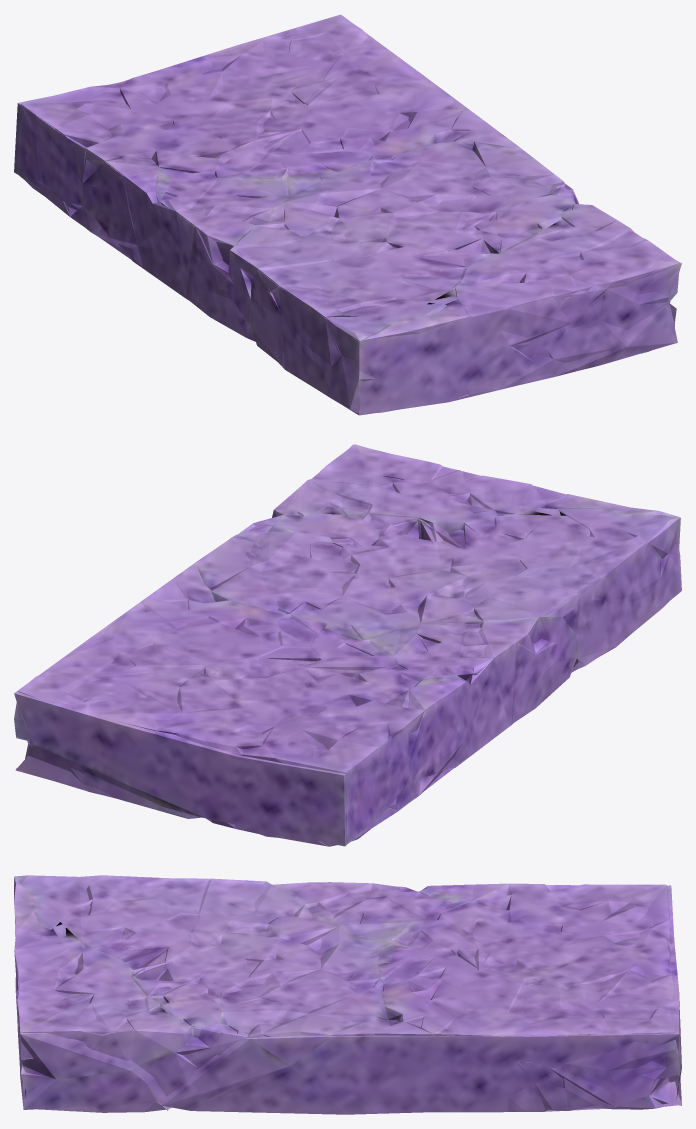
The model's file is imp-sponges.glb.
3 views of the same model, one above another, from view 1: azimuth 30°, elevation 25°; view 2: azimuth 150°, elevation 25°; view 3: azimuth 270°, elevation 25° (orthographic). The views are drawn at different scales.
Visible parts, largest first — view 1: model.obj (×3); view 2: model.obj (×3); view 3: model.obj (×3).
Boxes of the visible parts, x1,y1,x2,y2 form: model.obj (×3): (14,14,681,415); model.obj (×3): (14,444,681,846); model.obj (×3): (14,875,681,1114).
Bounding box in the file's own units: 0.0835 × 0.0224 × 0.15.
Materials: 1 (1 with a texture image).
